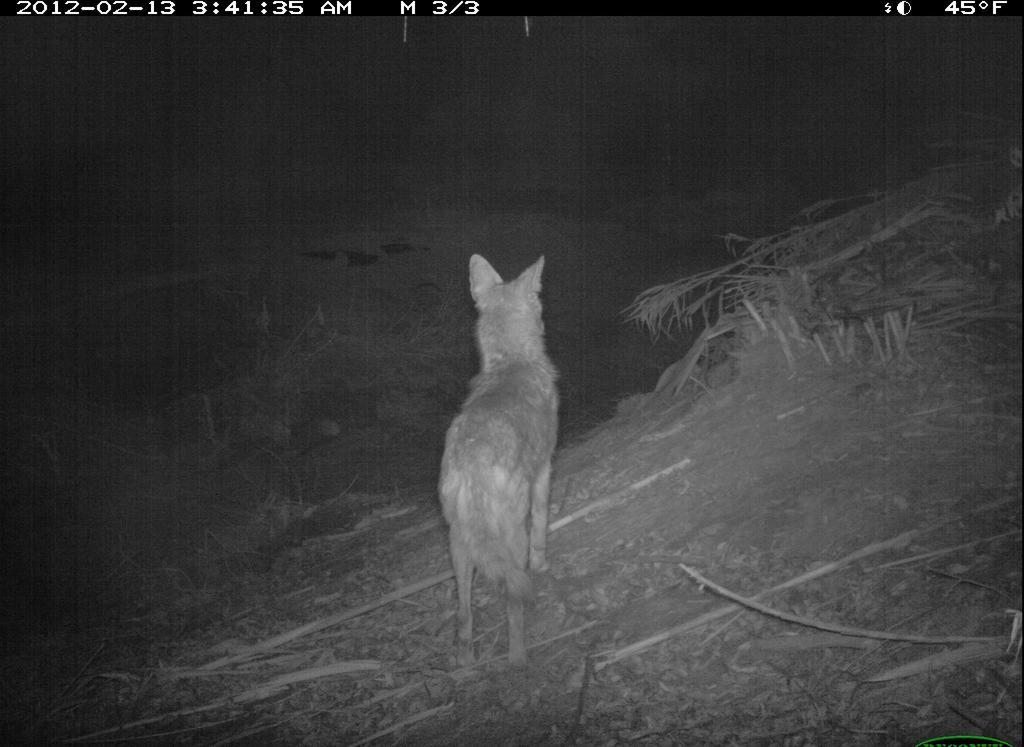coyote: (425, 222, 566, 683)
